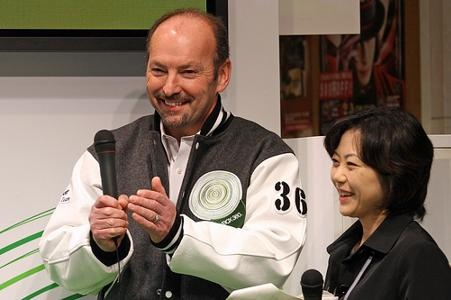person without safety: (44, 8, 306, 277), (299, 105, 451, 298)
